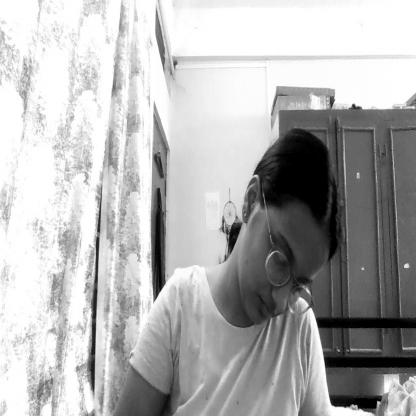Distracted: (240, 125, 338, 337)
